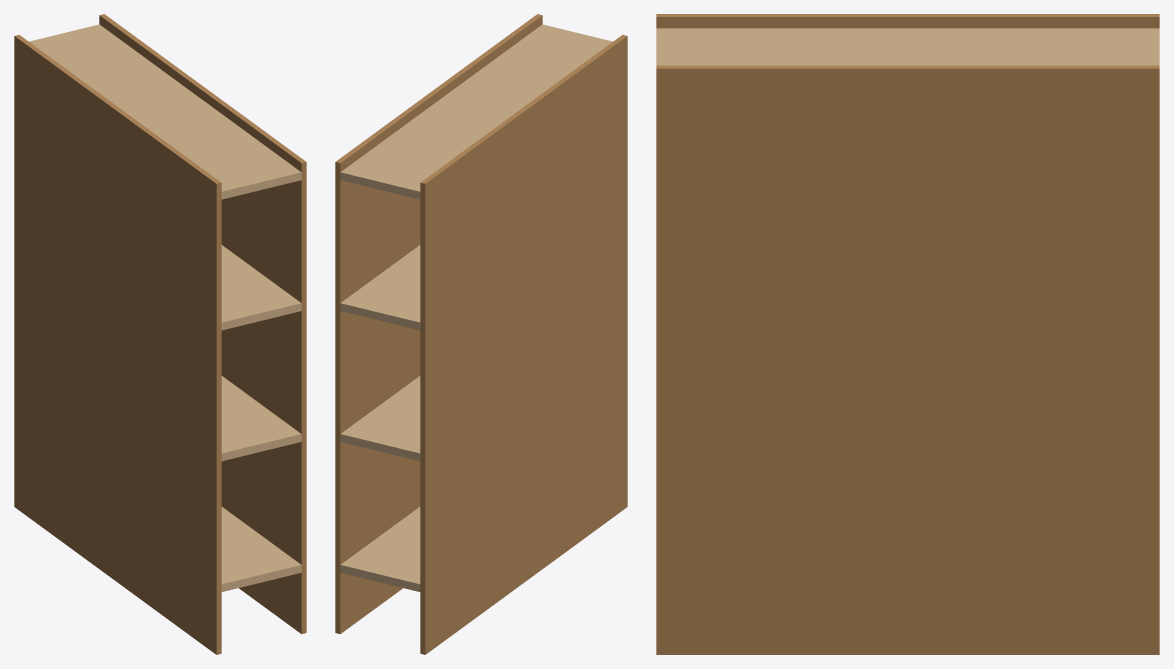
3 views of the same model, side by side, from view 1: azimuth 30°, elevation 25°; view 2: azimuth 150°, elevation 25°; view 3: azimuth 270°, elevation 25° (orthographic). The views are drawn at different scales.
Visible parts, largest first — view 1: estante_cocina; view 2: estante_cocina; view 3: estante_cocina.
Part boxes in pixels (x1,y1,x2,y2): estante_cocina: [14, 14, 306, 654]; estante_cocina: [335, 14, 627, 654]; estante_cocina: [656, 14, 1159, 654].
Size of the model in its own units: 0.36 by 1.4 by 1.8.
